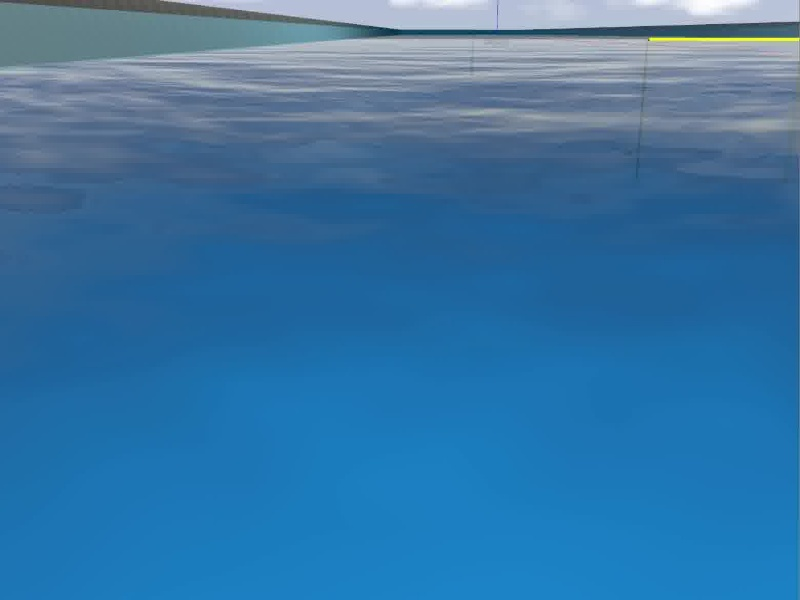gate: (634, 35, 800, 179)
